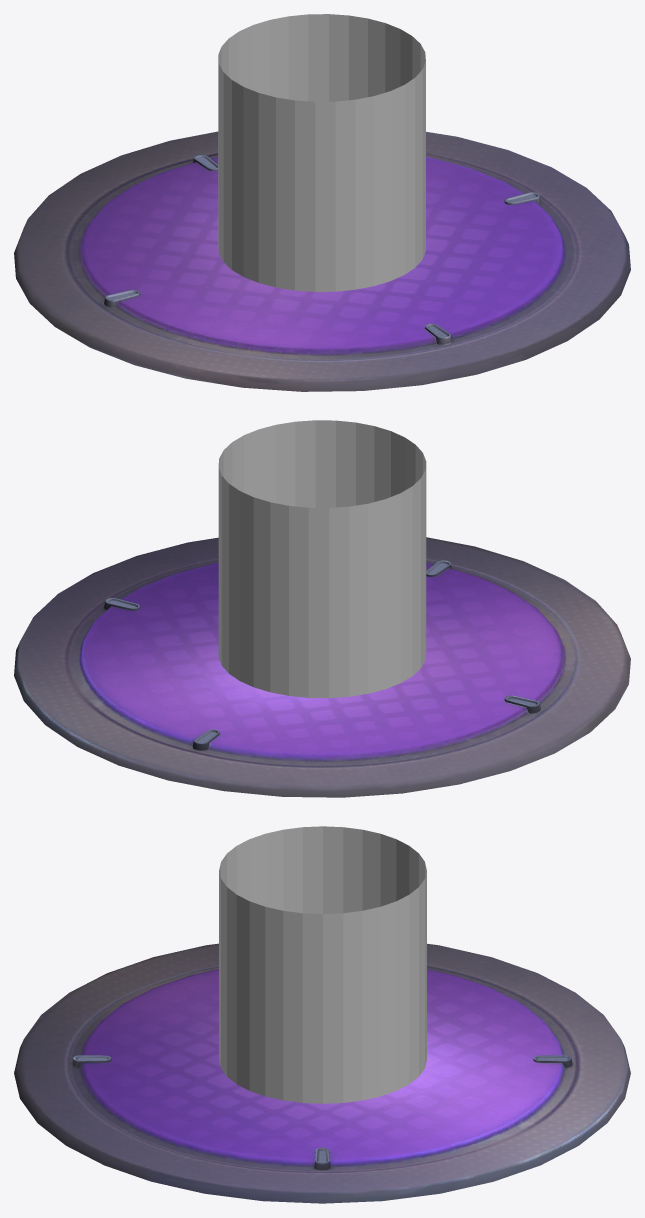
The model's file is pref_TPC_v2_NeutralScoreArea03_purple_born_lv1.fbx.
3 renders of one model, top to bottom at view 1: azimuth 30°, elevation 25°; view 2: azimuth 150°, elevation 25°; view 3: azimuth 270°, elevation 25°, orthographic.
Parts seen in each view (by area): view 1: sm_prop_platform06a_lv1, sm_fx_scorearea03_mesh_01_gp (1); view 2: sm_prop_platform06a_lv1, sm_fx_scorearea03_mesh_01_gp (1); view 3: sm_prop_platform06a_lv1, sm_fx_scorearea03_mesh_01_gp (1).
Part boxes in pixels (x1,y1,x2,y2): sm_prop_platform06a_lv1: [14, 131, 630, 391]; sm_fx_scorearea03_mesh_01_gp (1): [218, 14, 425, 291]; sm_prop_platform06a_lv1: [14, 537, 630, 797]; sm_fx_scorearea03_mesh_01_gp (1): [218, 420, 426, 698]; sm_prop_platform06a_lv1: [14, 943, 630, 1203]; sm_fx_scorearea03_mesh_01_gp (1): [219, 826, 426, 1103].
Bounding box in the file's own units: 7.46 × 3.07 × 7.46.
